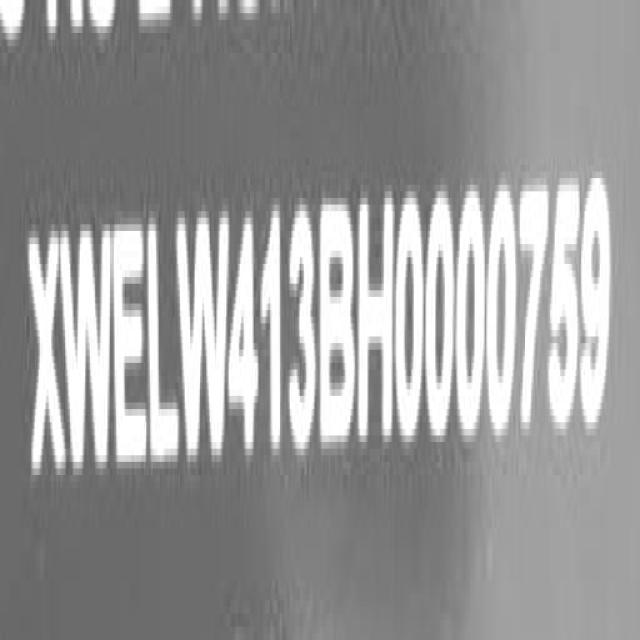0: (395, 187, 429, 450), (488, 178, 520, 446), (426, 183, 457, 447), (454, 180, 485, 444)
1: (260, 203, 285, 467)
3: (290, 198, 321, 462)
4: (227, 205, 259, 469)
5: (549, 171, 579, 440)
7: (518, 175, 550, 445)
9: (582, 175, 614, 438)
B: (320, 193, 357, 458)
E: (114, 216, 149, 482)
H: (358, 188, 397, 450)
L: (148, 216, 180, 479)
W: (176, 203, 229, 474), (63, 221, 115, 486)
X: (30, 226, 66, 494)
